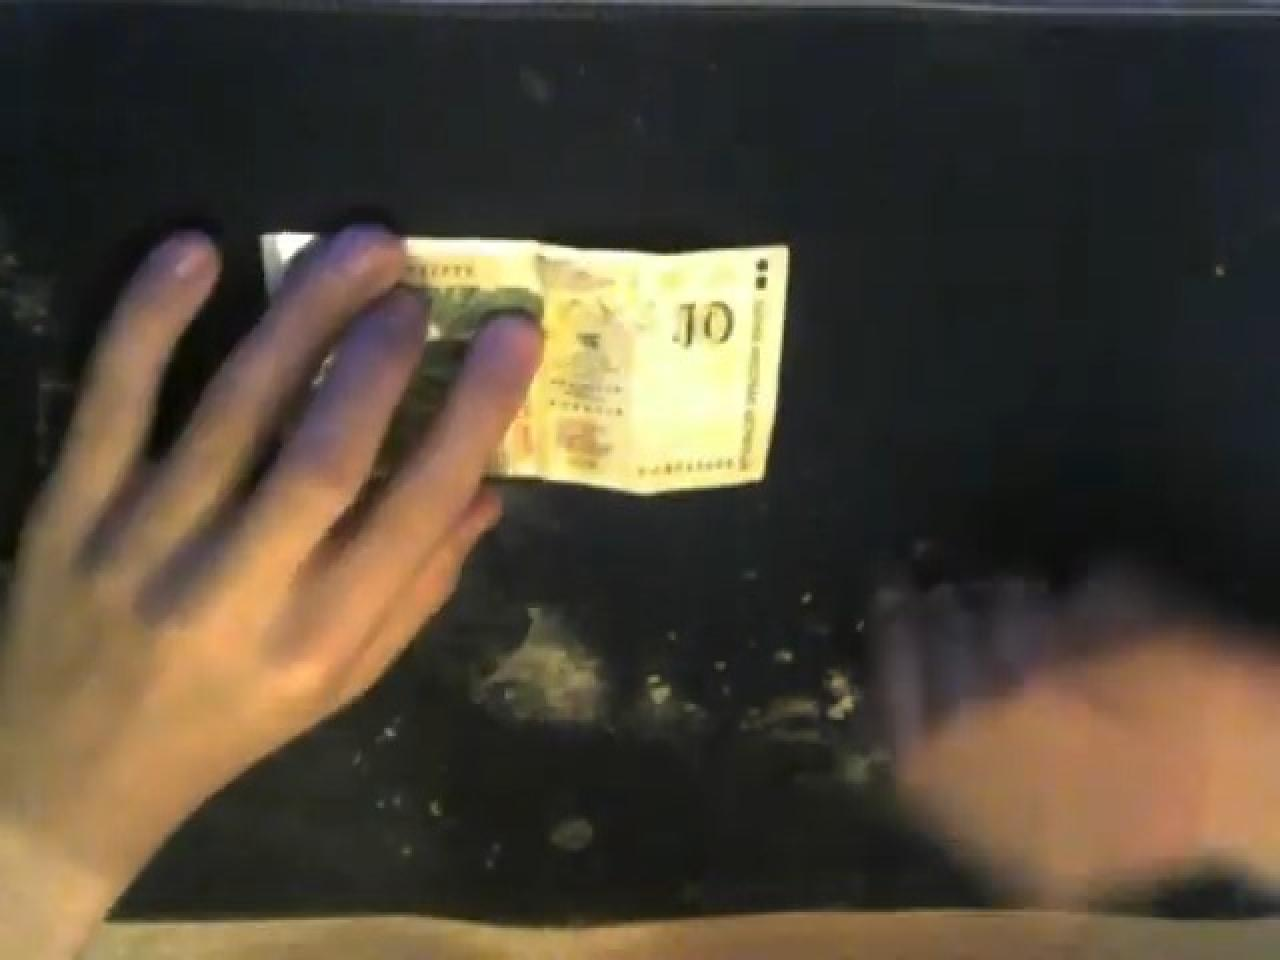10leva: (406, 235, 790, 493)
